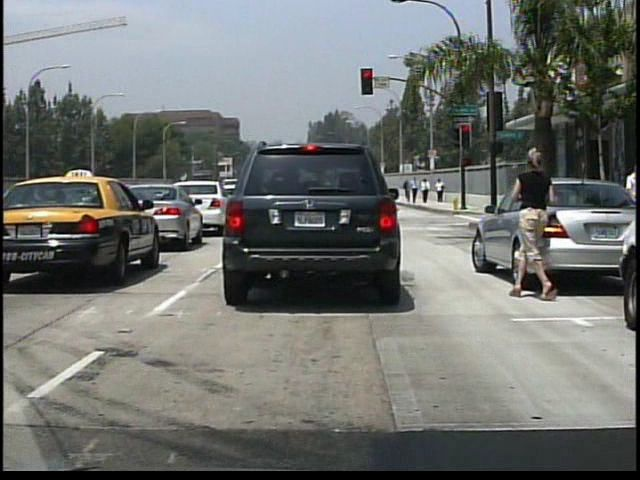person: (510, 135, 564, 304), (434, 177, 445, 204), (410, 176, 420, 204), (421, 178, 430, 204), (404, 179, 413, 201)
